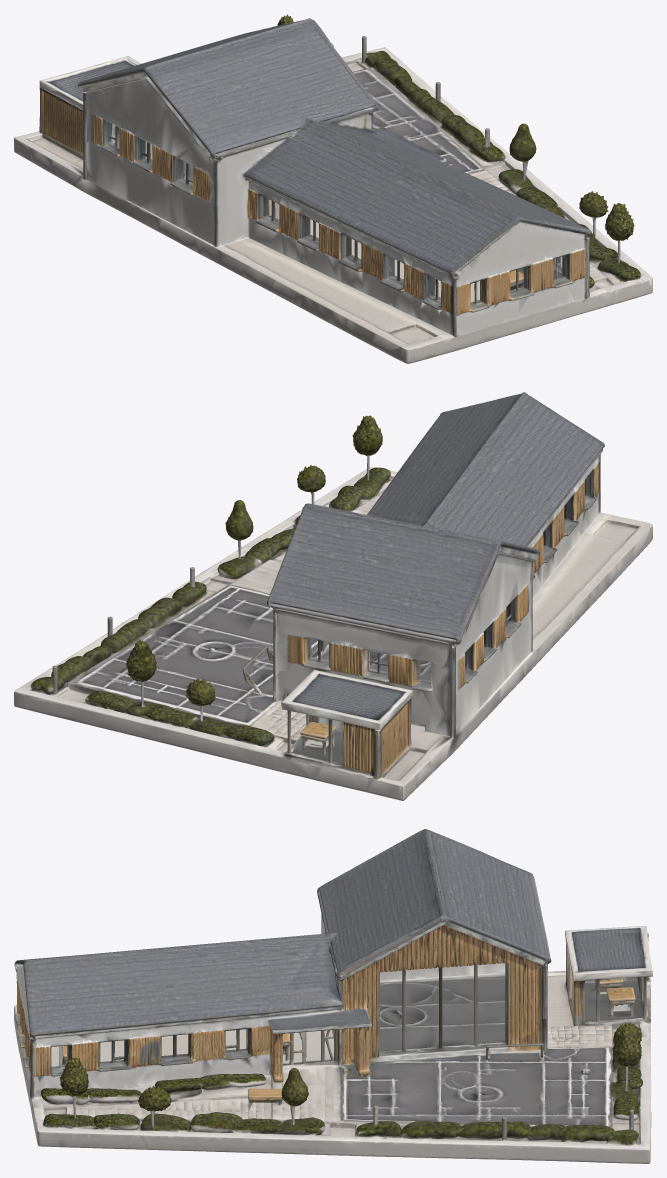
File: b3-learning.glb
The picture shows the model from 3 angles, top to bottom: view 1: azimuth 30°, elevation 25°; view 2: azimuth 150°, elevation 25°; view 3: azimuth 270°, elevation 25°; orthographic projection. The views are drawn at different scales.
Visible parts, largest first — view 1: tripo_node_f67ab627-59f6-4296-8cf1-d5aba516e9d5; view 2: tripo_node_f67ab627-59f6-4296-8cf1-d5aba516e9d5; view 3: tripo_node_f67ab627-59f6-4296-8cf1-d5aba516e9d5.
Part boxes in pixels (box(x1,y1,x2,y2)): tripo_node_f67ab627-59f6-4296-8cf1-d5aba516e9d5: box(14, 14, 652, 363); tripo_node_f67ab627-59f6-4296-8cf1-d5aba516e9d5: box(14, 392, 652, 800); tripo_node_f67ab627-59f6-4296-8cf1-d5aba516e9d5: box(14, 829, 652, 1163).
Size of the model in its own units: 0.6618 by 0.2763 by 0.9786.
1 material, 1 textured.
